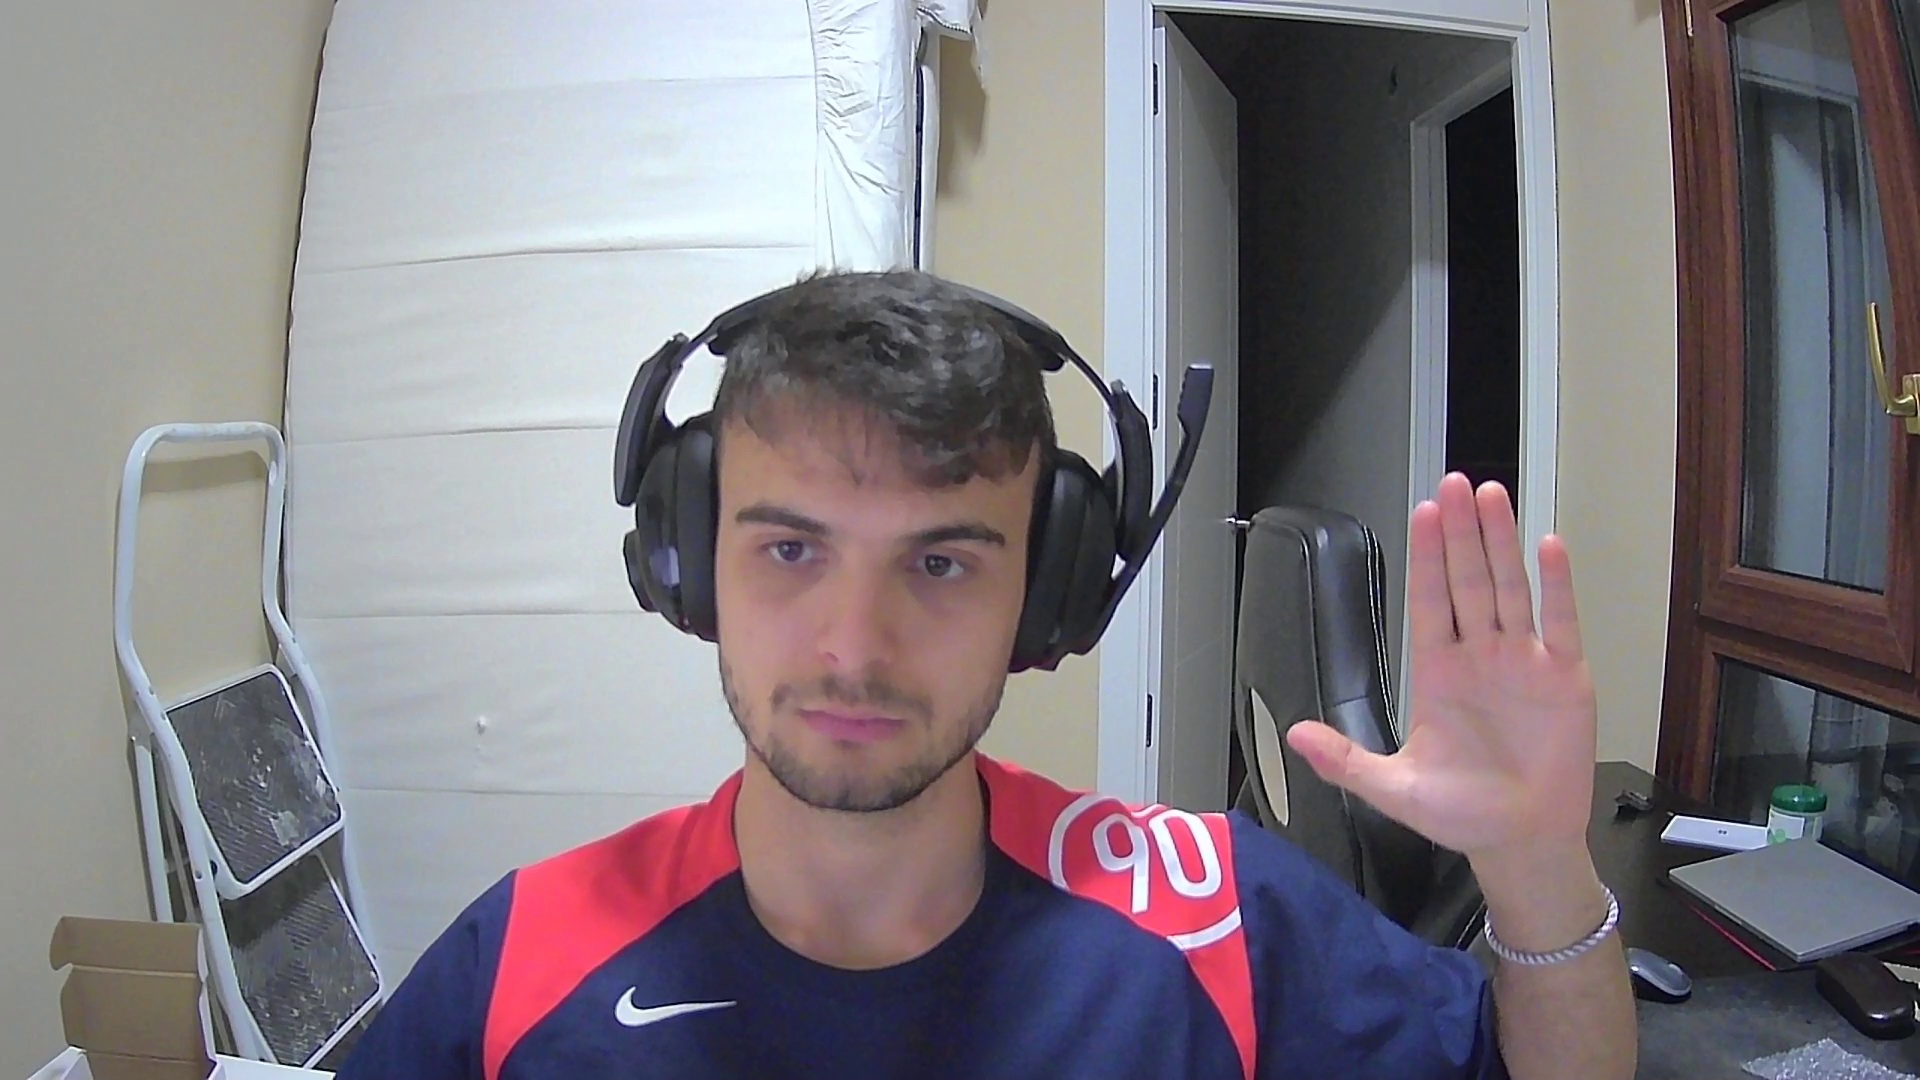Palm: (1284, 468, 1601, 881)
